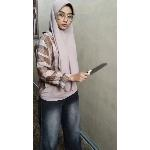Pisau: (80, 60, 108, 82)
